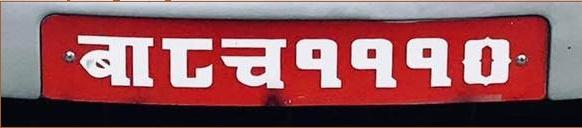0: (459, 31, 513, 90)
1: (291, 31, 349, 93), (349, 34, 406, 96), (406, 31, 457, 93)
8: (157, 32, 217, 92)
ba: (71, 31, 158, 91)
cha: (218, 32, 291, 96)
